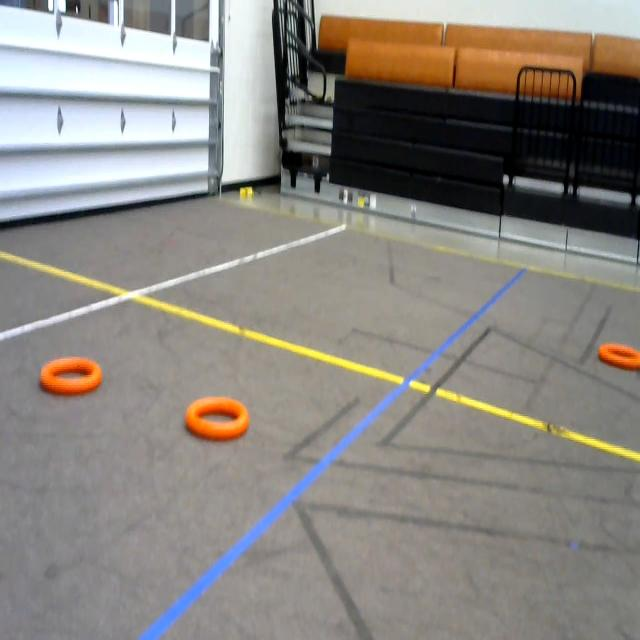note: (180, 388, 259, 448), (37, 349, 110, 405), (592, 332, 640, 377)
